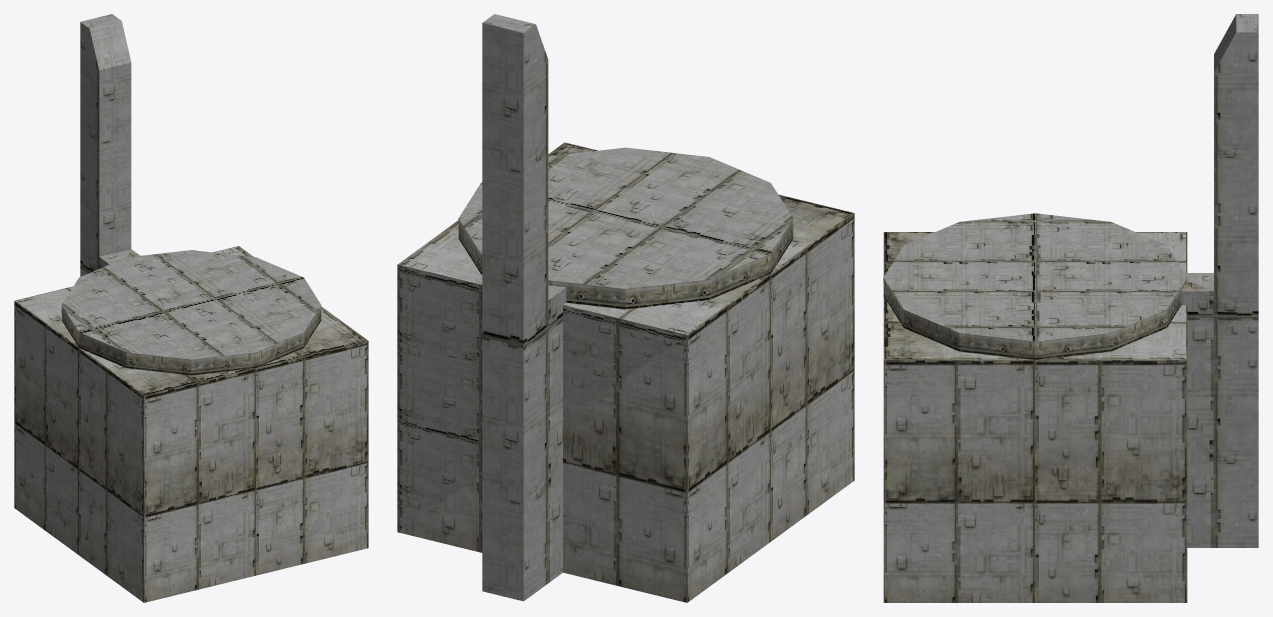
The model's file is ins_all_def_turret_sm_s03_l0.fbx.
The picture shows the model from 3 angles, left to right: view 1: azimuth 30°, elevation 25°; view 2: azimuth 150°, elevation 25°; view 3: azimuth 270°, elevation 25°; orthographic projection. The views are drawn at different scales.
Parts seen in each view (by area): view 1: mesh_node; view 2: mesh_node; view 3: mesh_node.
Part boxes in pixels (x1,y1,x2,y2): mesh_node: [14, 14, 368, 602]; mesh_node: [397, 14, 854, 602]; mesh_node: [883, 14, 1258, 602].
Bounding box in the file's own units: 1.7 × 3.19 × 2.1.
